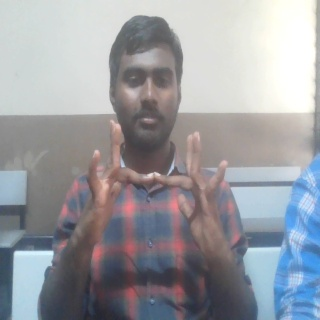Internet: (70, 118, 231, 272)
